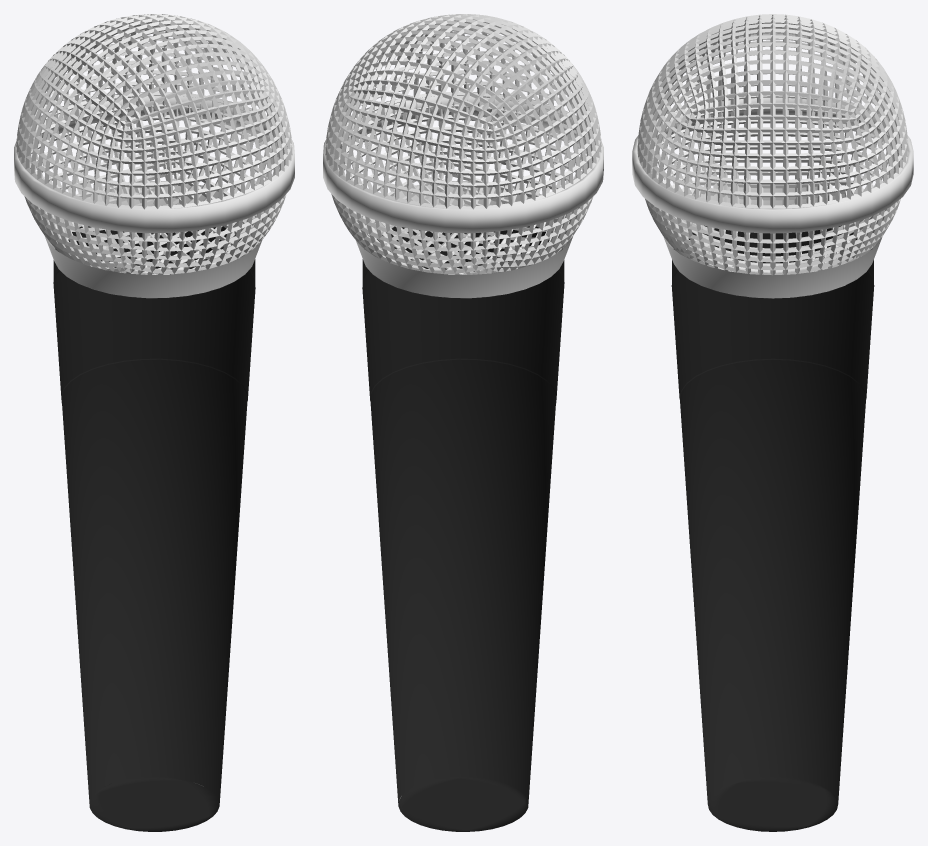
The model's file is microphone.glb.
3 renders of one model, left to right at view 1: azimuth 30°, elevation 25°; view 2: azimuth 150°, elevation 25°; view 3: azimuth 270°, elevation 25°, orthographic.
Parts seen in each view (by area): view 1: Circle.001, Cube, Circle; view 2: Circle.001, Cube, Circle; view 3: Circle.001, Cube, Circle.
Boxes of the visible parts, x1=… form: Circle.001: x1=44, y1=181, x2=262, y2=831; Cube: x1=16, y1=14, x2=292, y2=274; Circle: x1=14, y1=92, x2=294, y2=233; Circle.001: x1=355, y1=181, x2=573, y2=831; Cube: x1=325, y1=14, x2=601, y2=274; Circle: x1=323, y1=92, x2=603, y2=233; Circle.001: x1=663, y1=186, x2=882, y2=831; Cube: x1=637, y1=14, x2=908, y2=275; Circle: x1=632, y1=97, x2=913, y2=233.
Bounding box in the file's own units: 0.1197 × 0.364 × 0.1197.
Materials: 3 (2 with a texture image).
